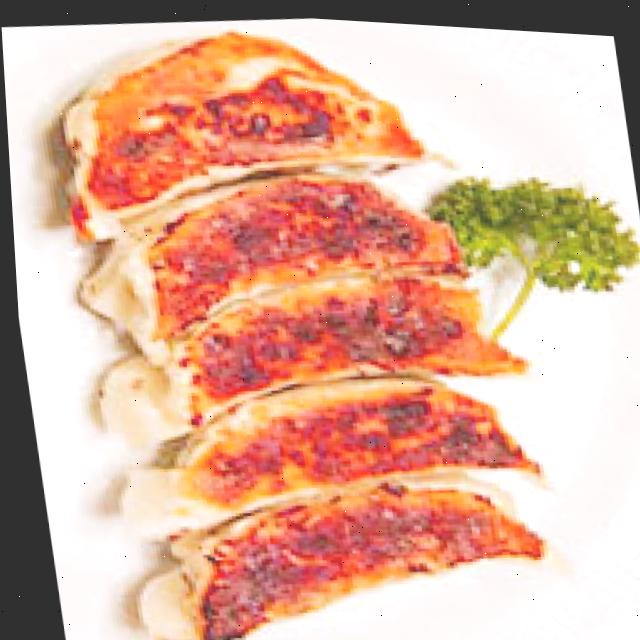带馅早点: (8, 0, 558, 640)
